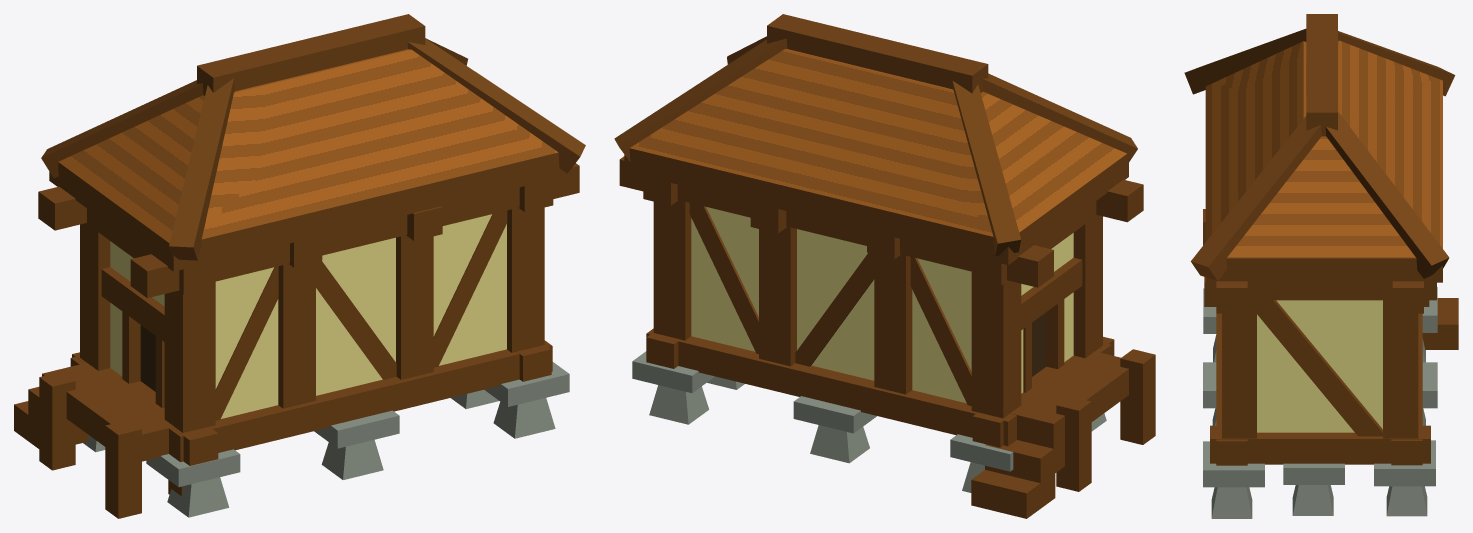
Rendered from SmallGranary.fbx.
3 renders of one model, left to right at view 1: azimuth 30°, elevation 25°; view 2: azimuth 150°, elevation 25°; view 3: azimuth 270°, elevation 25°, orthographic. The views are drawn at different scales.
Parts seen in each view (by area): view 1: polySurface65; view 2: polySurface65; view 3: polySurface65.
Boxes of the visible parts, box(x1,y1,x2,y2) form: polySurface65: box(14, 14, 585, 518); polySurface65: box(614, 14, 1155, 518); polySurface65: box(1184, 14, 1458, 518).
Size of the model in its own units: 184 by 149 by 101.
Materials: 2 (2 with a texture image).
